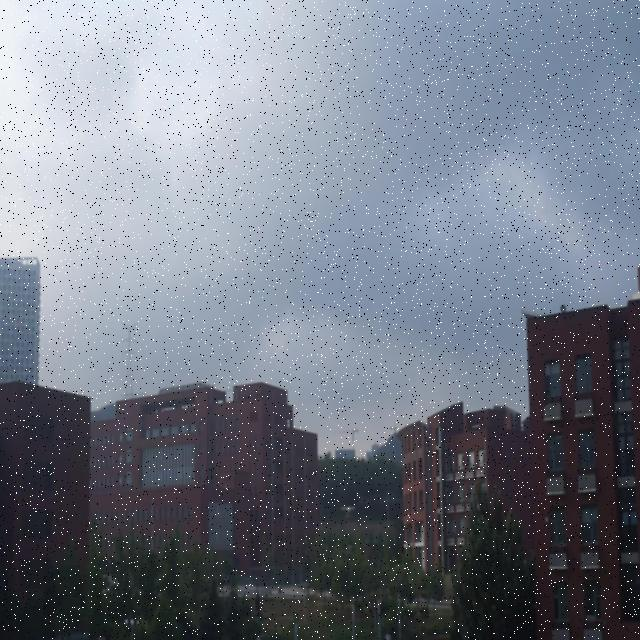UAV: (339, 506, 356, 518)
